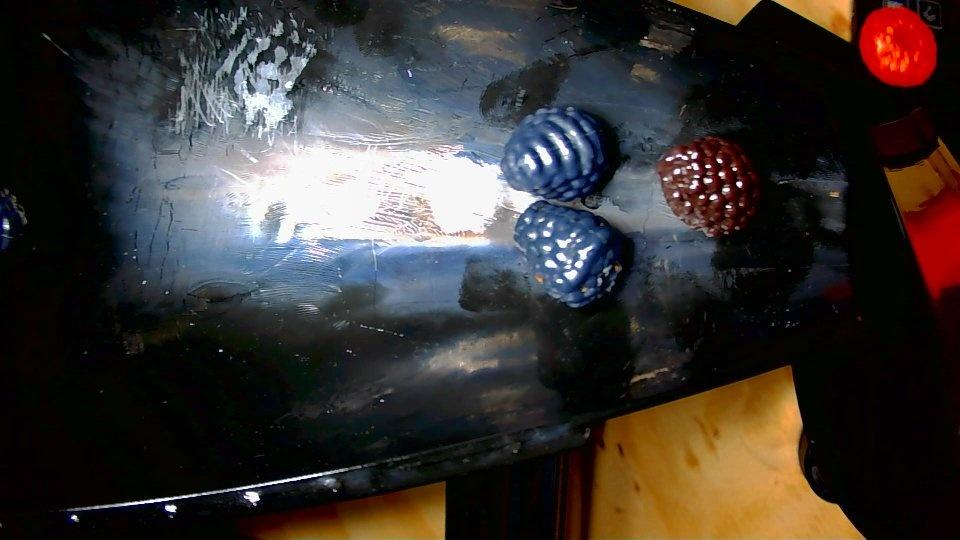berry: (514, 200, 623, 307), (502, 106, 617, 201), (657, 137, 760, 236), (858, 6, 937, 86), (0, 188, 26, 251)
